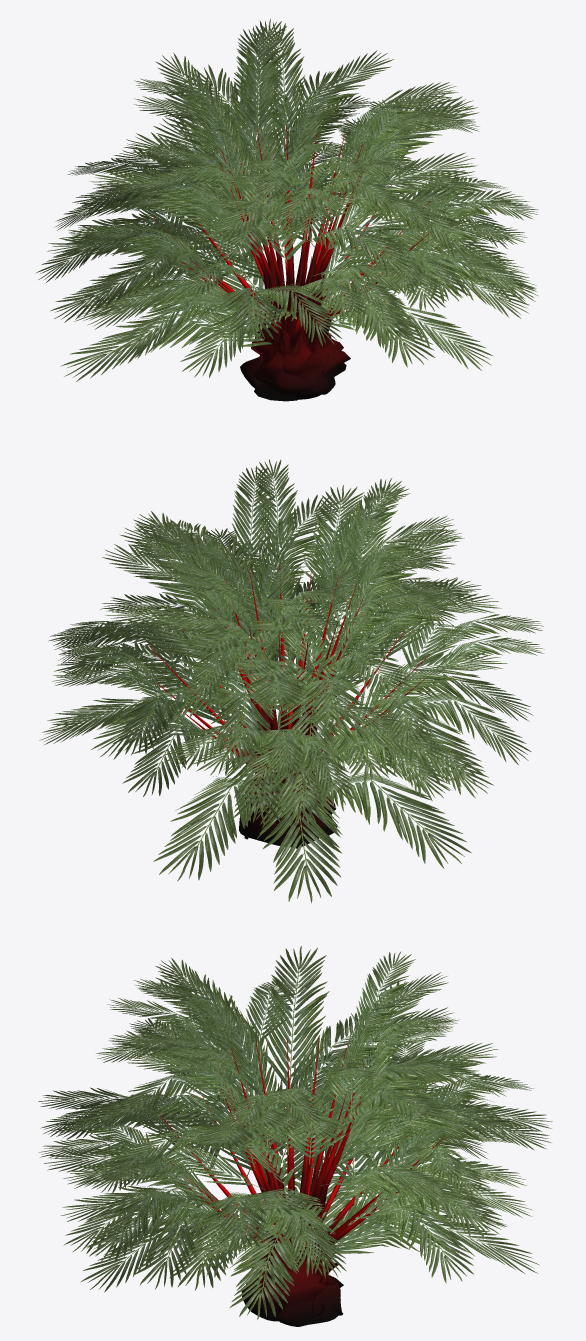
Rendered from Palm_3_4.fbx.
The picture shows the model from 3 angles, top to bottom: view 1: azimuth 30°, elevation 25°; view 2: azimuth 150°, elevation 25°; view 3: azimuth 270°, elevation 25°; orthographic projection. The views are drawn at different scales.
Visible parts, largest first — view 1: Palm_3_4; view 2: Palm_3_4; view 3: Palm_3_4.
Part boxes in pixels (left/top/right/bottom): Palm_3_4: left=35, top=19, right=538, bottom=401; Palm_3_4: left=39, top=459, right=544, bottom=903; Palm_3_4: left=38, top=946, right=552, bottom=1326.
Size of the model in its own units: 4504 by 2678 by 4361.
